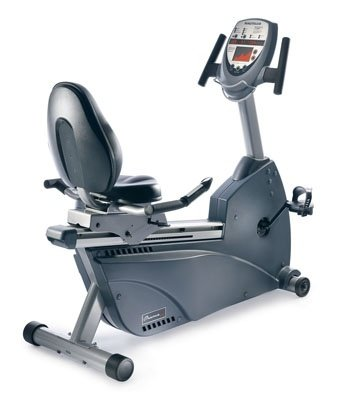gym_bike: (27, 19, 298, 378)
